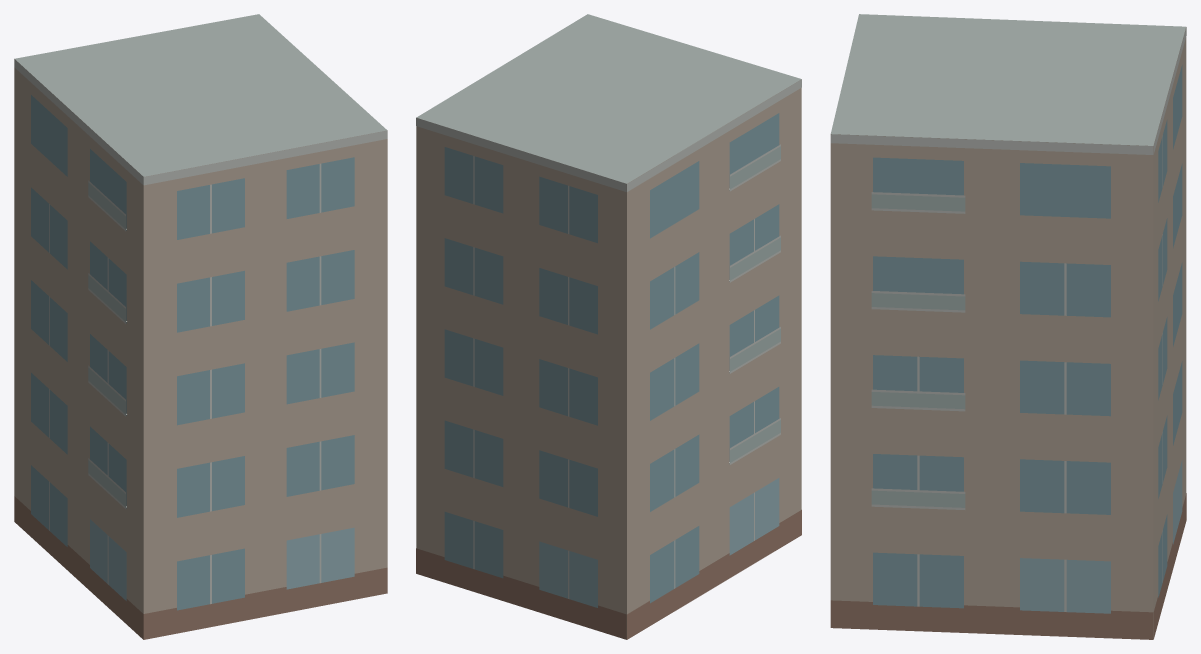
The model's file is survey-upis-32764879.glb.
3 renders of one model, left to right at view 1: azimuth 30°, elevation 25°; view 2: azimuth 150°, elevation 25°; view 3: azimuth 270°, elevation 25°, orthographic. The views are drawn at different scales.
Parts seen in each view (by area): view 1: survey-upis-32764879.tmp; view 2: survey-upis-32764879.tmp; view 3: survey-upis-32764879.tmp.
Part boxes in pixels (box(x1,y1,x2,y2)): survey-upis-32764879.tmp: box(14, 14, 387, 639); survey-upis-32764879.tmp: box(416, 14, 801, 639); survey-upis-32764879.tmp: box(830, 14, 1186, 639).
Bounding box in the file's own units: 7.57 × 13.2 × 8.63.
